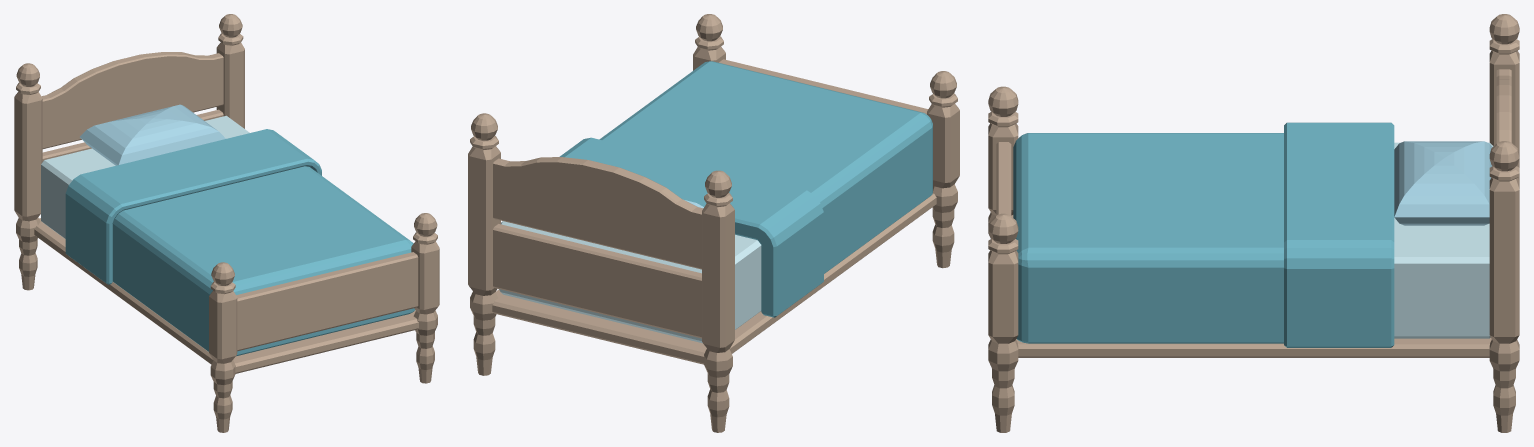
The model's file is Prop_Bedroom_Bed_Single.glb.
The picture shows the model from 3 angles, left to right: view 1: azimuth 30°, elevation 25°; view 2: azimuth 150°, elevation 25°; view 3: azimuth 270°, elevation 25°; orthographic projection. The views are drawn at different scales.
Parts seen in each view (by area): view 1: Prop_Bedroom_Bed_Single; view 2: Prop_Bedroom_Bed_Single; view 3: Prop_Bedroom_Bed_Single.
Part boxes in pixels (<box>): Prop_Bedroom_Bed_Single: <box>14,14,439,432</box>; Prop_Bedroom_Bed_Single: <box>468,14,959,432</box>; Prop_Bedroom_Bed_Single: <box>988,14,1519,432</box>.
Bounding box in the file's own units: 1.65 × 1.58 × 2.65.
